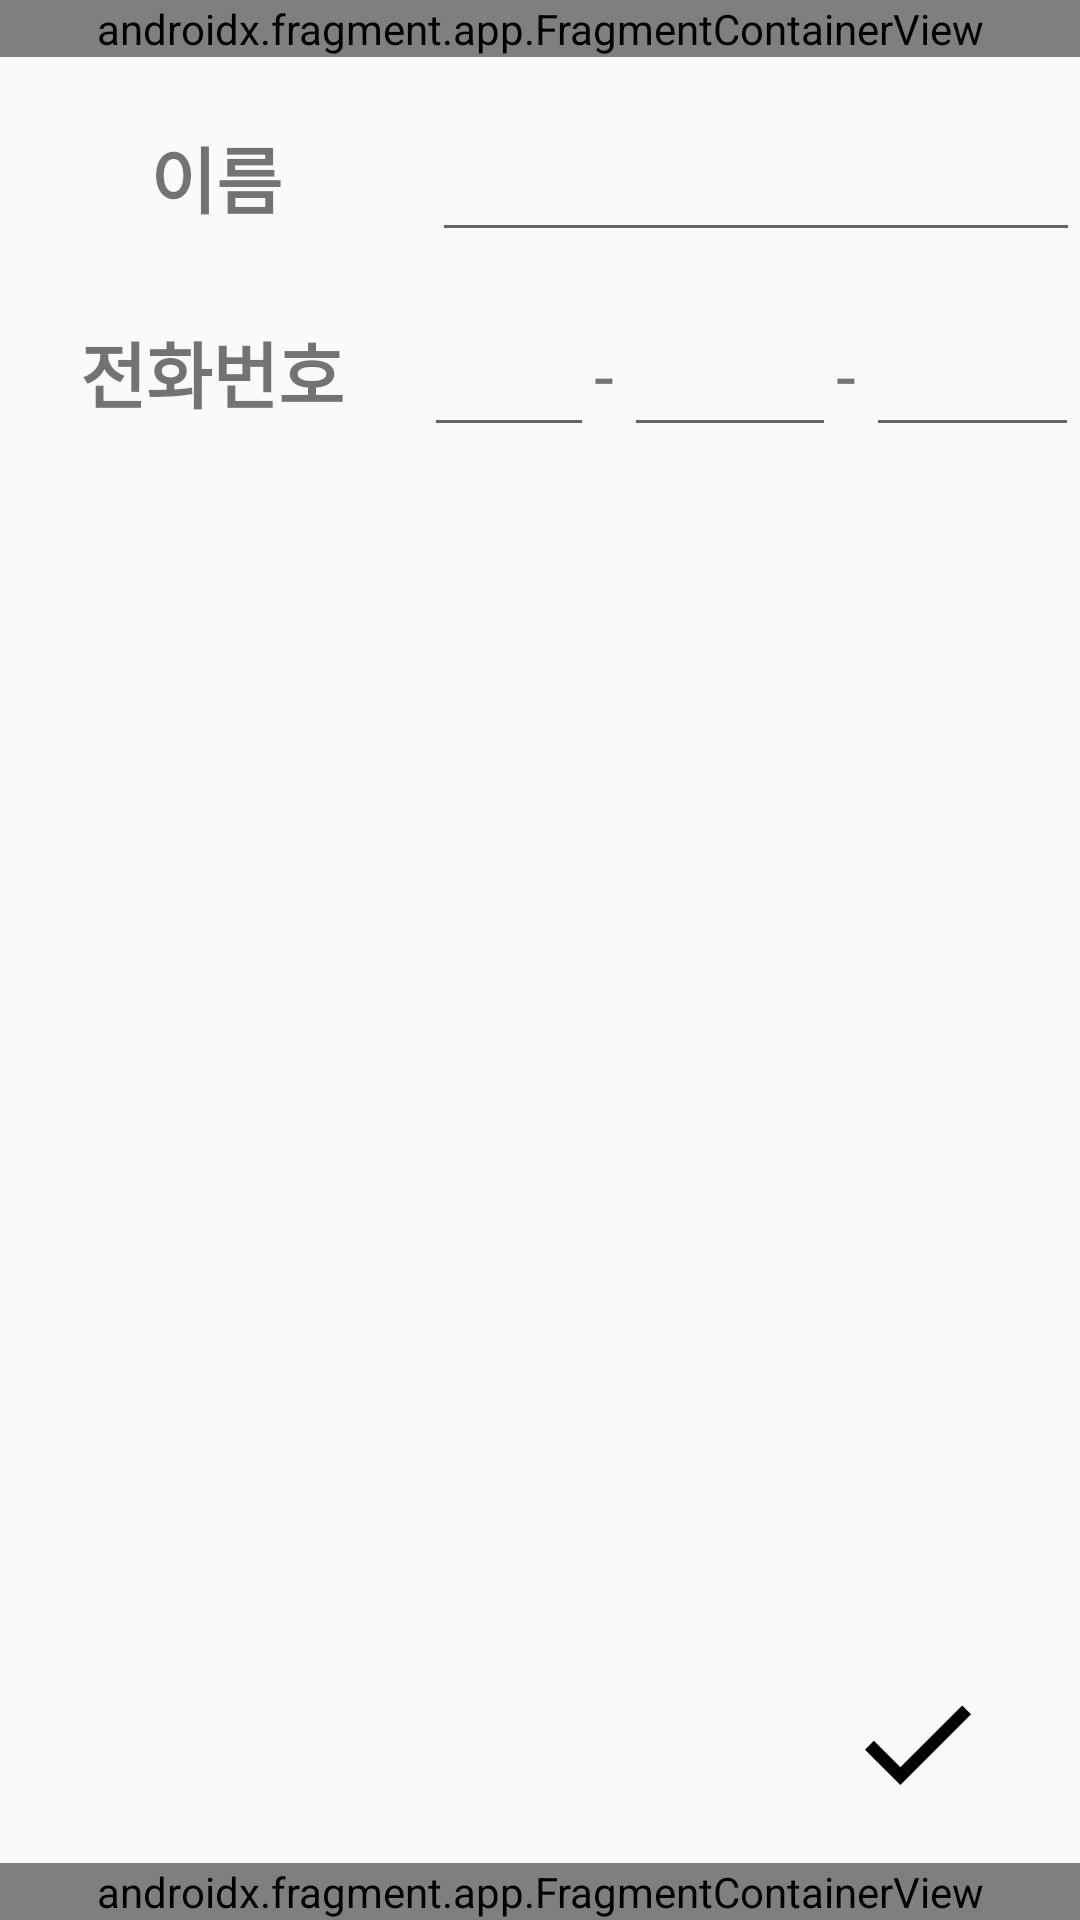

Icon bounding boxes for this 1080px x 1920px phone screenshot, format (x1, y1, x2, y2):
check: (865, 1705, 971, 1785)
